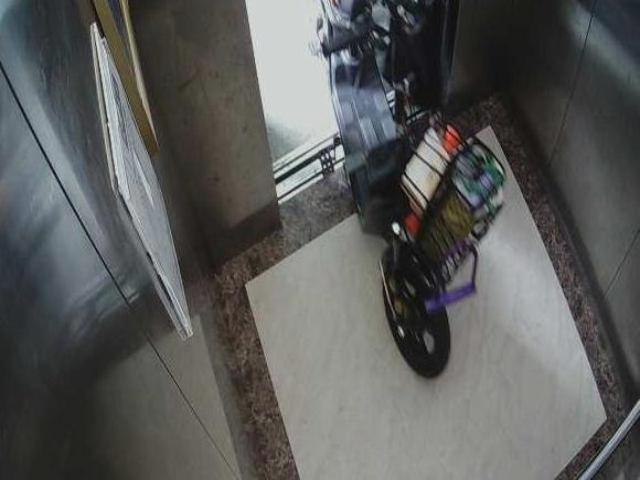emotor: (309, 12, 512, 380)
